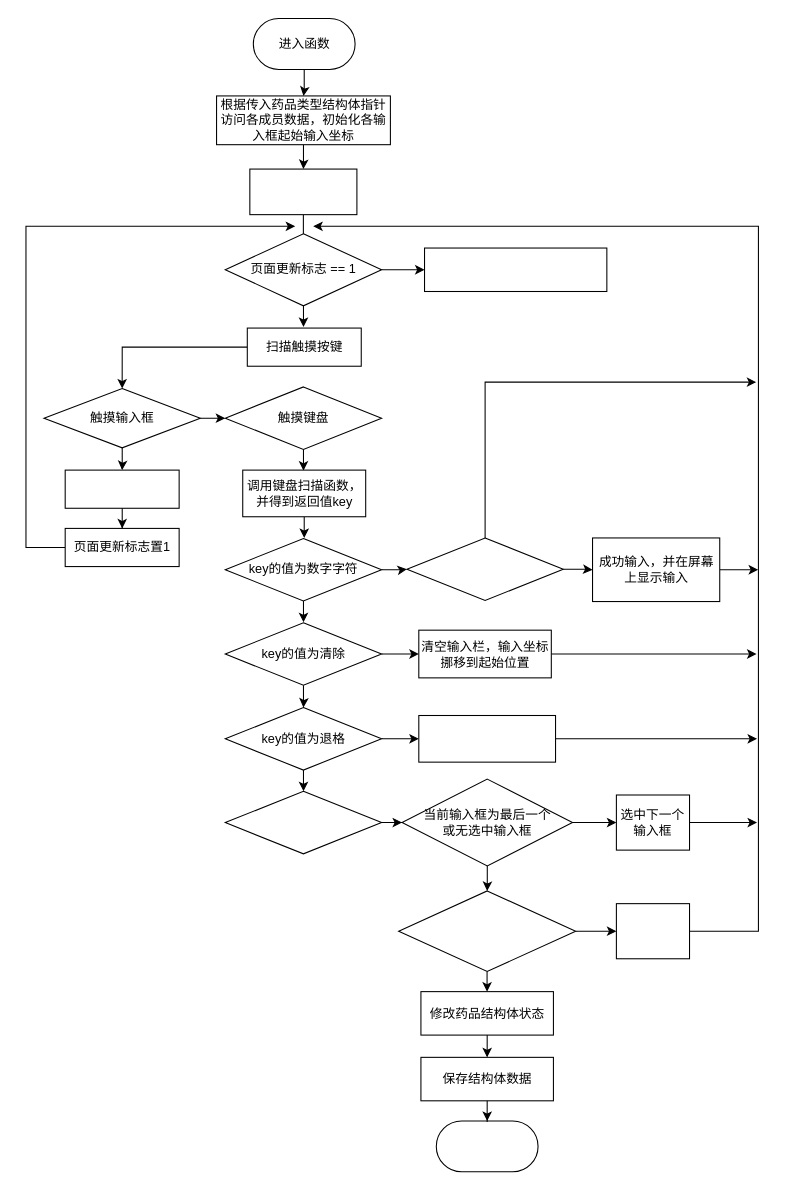
Some shapes in this 785 by 1190 pixel diagram are drawn without their labels. The centre of each missing label's shape, as x and y in pixels:
"key的值为回车" goes at (x=303, y=822).
"将所有输入框调整到正常颜色，而后将选中的输入框亮红显示" goes at (x=515, y=269).
"所有输入框中的 当前数值为有效值" goes at (x=487, y=930).
"清屏并显示页面" goes at (x=303, y=191).
"输入栏未超过输入限制" goes at (x=484, y=568).
"输入栏清除一个字符，并将输入坐标向后挪移" goes at (x=487, y=738).
"退出函数" goes at (x=486, y=1146).
"选中对应输入框" goes at (x=121, y=488).
"选中无效输入的输入框" goes at (x=652, y=931).
